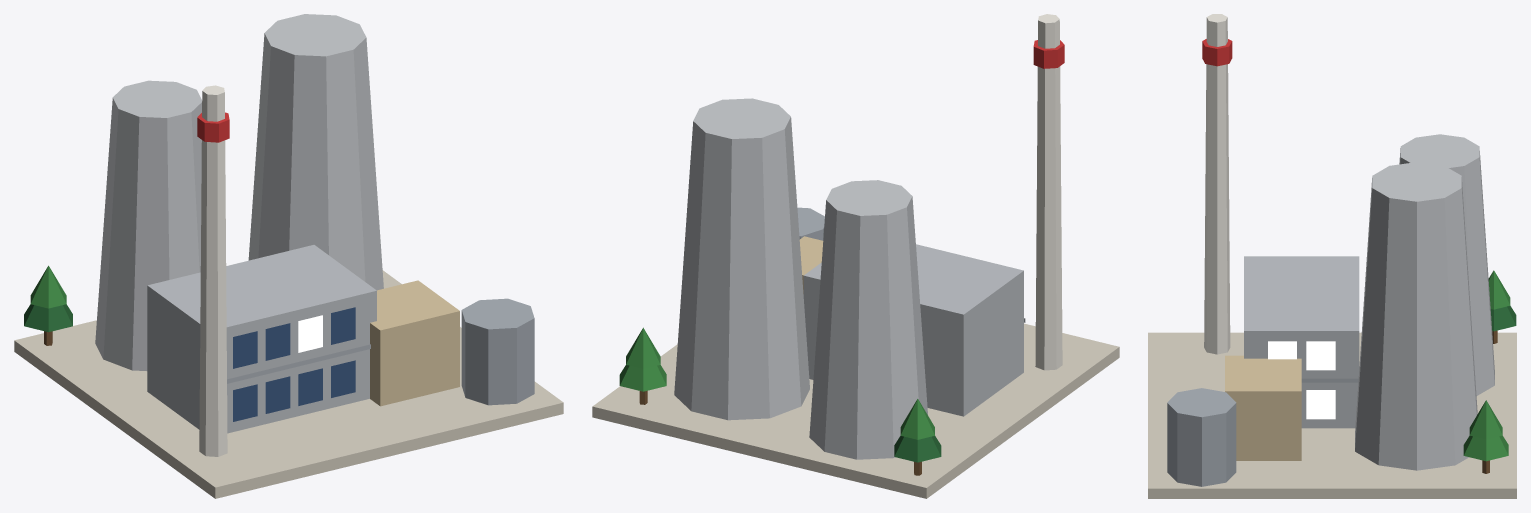
The picture shows the model from 3 angles, left to right: view 1: azimuth 30°, elevation 25°; view 2: azimuth 150°, elevation 25°; view 3: azimuth 270°, elevation 25°; orthographic projection. The views are drawn at different scales.
Visible parts, largest first — view 1: b40; view 2: b40; view 3: b40.
Part boxes in pixels (x1,y1,x2,y2): b40: (14,14,563,498); b40: (592,14,1119,498); b40: (1148,14,1516,498).
Bounding box in the file's own units: 0.9675 × 0.98 × 0.96.
